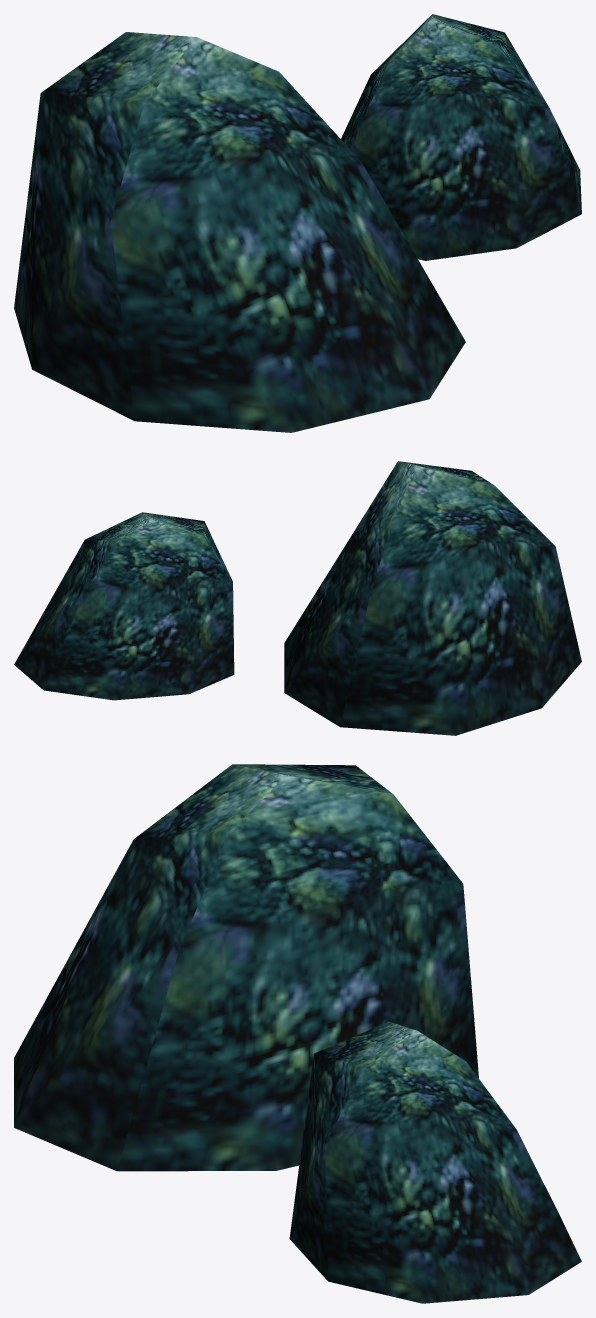
File: rocks00.obj
The picture shows the model from 3 angles, top to bottom: view 1: azimuth 30°, elevation 25°; view 2: azimuth 150°, elevation 25°; view 3: azimuth 270°, elevation 25°; orthographic projection. The views are drawn at different scales.
Visible parts, largest first — view 1: North_Rocks0; view 2: North_Rocks0; view 3: North_Rocks0.
Boxes of the visible parts, <box> form: North_Rocks0: <box>14,14,581,432</box>; North_Rocks0: <box>14,461,581,735</box>; North_Rocks0: <box>14,764,581,1303</box>.
Size of the model in its own units: 3.58 by 1.61 by 2.76.
Materials: 1 (1 with a texture image).
